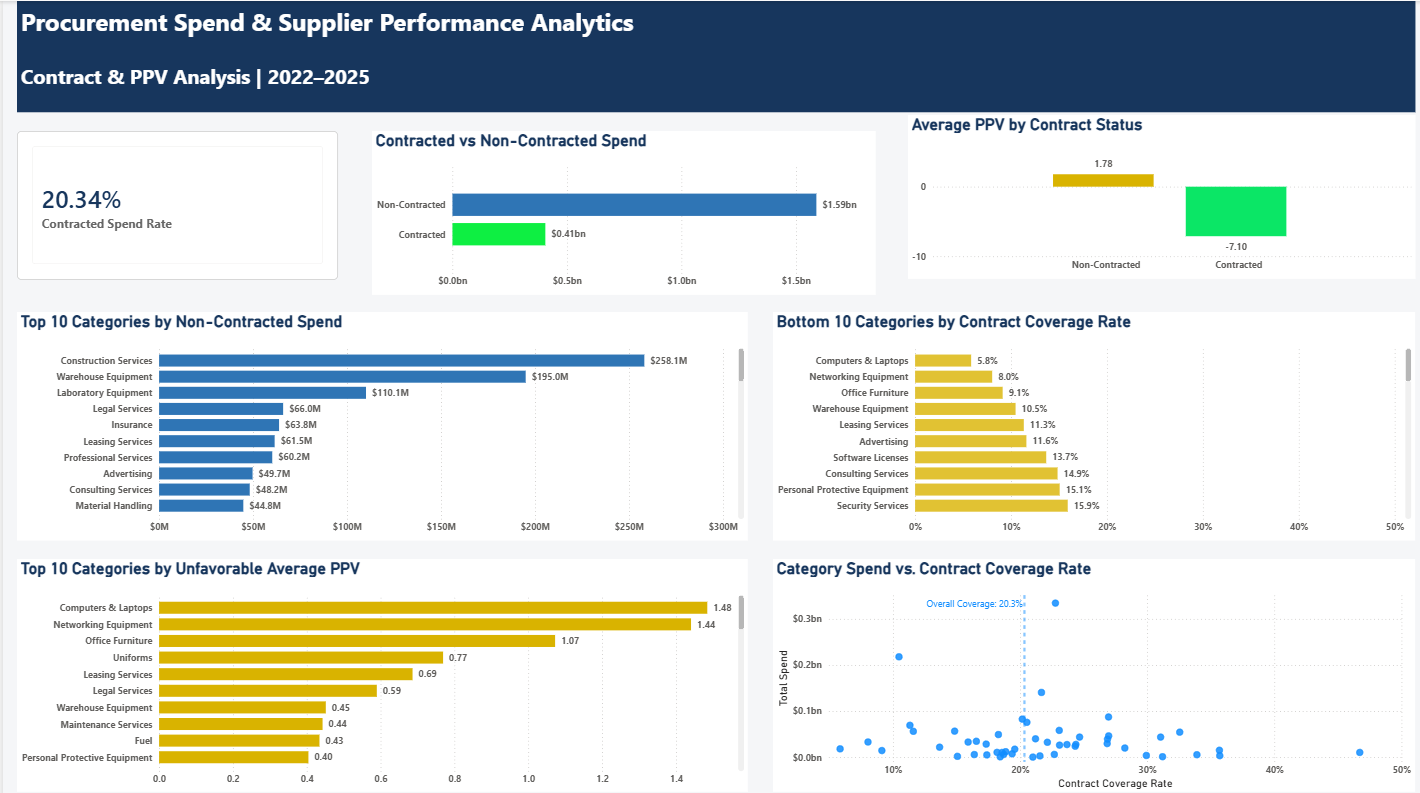

What the dashboard file says about the page in this screenshot:
{"tool":"powerbi","page":{"name":"Contract & PPV Analysis","canvas":[1920,1080],"ordinal":3},"visuals":[{"type":"cardVisual","fields":{"Data":["PurchaseOrderItems.Contracted Spend Rate"]},"box":[18.2,172.6,427,197.6],"z":0},{"type":"clusteredBarChart","title":"Contracted vs Non-Contracted Spend","fields":{"Y":["PurchaseOrderItems.Total Line Spend"],"Category":["PurchaseOrderItems.Contract Status"]},"box":[490.6,172.6,670,218],"z":1000},{"type":"clusteredColumnChart","title":"Average PPV by Contract Status","fields":{"Y":["PurchaseOrderItems.Average PPV %"],"Category":["PurchaseOrderItems.Contract Status"]},"box":[1203.8,152.2,674.6,218],"z":2000},{"type":"clusteredBarChart","title":"Top 10 Categories by Non-Contracted Spend","fields":{"Category":["Products.Category"],"Y":["PurchaseOrderItems.Non-Contracted Spend"]},"box":[18.2,413.4,972.1,304.4],"z":3000},{"type":"clusteredBarChart","title":"Bottom 10 Categories by Contract Coverage Rate","fields":{"Category":["Products.Category"],"Y":["PurchaseOrderItems.Contract Coverage Rate"]},"box":[1024.4,413.4,854,304.4],"z":4000},{"type":"scatterChart","title":"Category Spend vs. Contract Coverage Rate","fields":{"X":["PurchaseOrderItems.Contract Coverage Rate"],"Y":["PurchaseOrderItems.Total Line Spend"],"Category":["Products.Category"]},"box":[1024.4,742.7,854,311.2],"z":5000},{"type":"clusteredBarChart","title":"Top 10 Categories by Unfavorable Average PPV","fields":{"Category":["Products.Category"],"Y":["PurchaseOrderItems.Average PPV %"]},"box":[18.2,742.7,972.1,311.2],"z":6000},{"type":"textbox","box":[18.2,0,1860.2,147.6],"z":7000}]}

Visuals, with their boxes in screenshot pixels (x1, y1, x2, y2), scaled from the page's 1920x1080 canvas onto the 1420x793 screenshot:
cardVisual - PurchaseOrderItems.Contracted Spend Rate: (left=13, top=127, right=329, bottom=272)
"Contracted vs Non-Contracted Spend" clusteredBarChart: (left=363, top=127, right=858, bottom=287)
"Average PPV by Contract Status" clusteredColumnChart: (left=890, top=112, right=1389, bottom=272)
"Top 10 Categories by Non-Contracted Spend" clusteredBarChart: (left=13, top=304, right=732, bottom=527)
"Bottom 10 Categories by Contract Coverage Rate" clusteredBarChart: (left=758, top=304, right=1389, bottom=527)
"Category Spend vs. Contract Coverage Rate" scatterChart: (left=758, top=545, right=1389, bottom=774)
"Top 10 Categories by Unfavorable Average PPV" clusteredBarChart: (left=13, top=545, right=732, bottom=774)
textbox: (left=13, top=0, right=1389, bottom=108)
